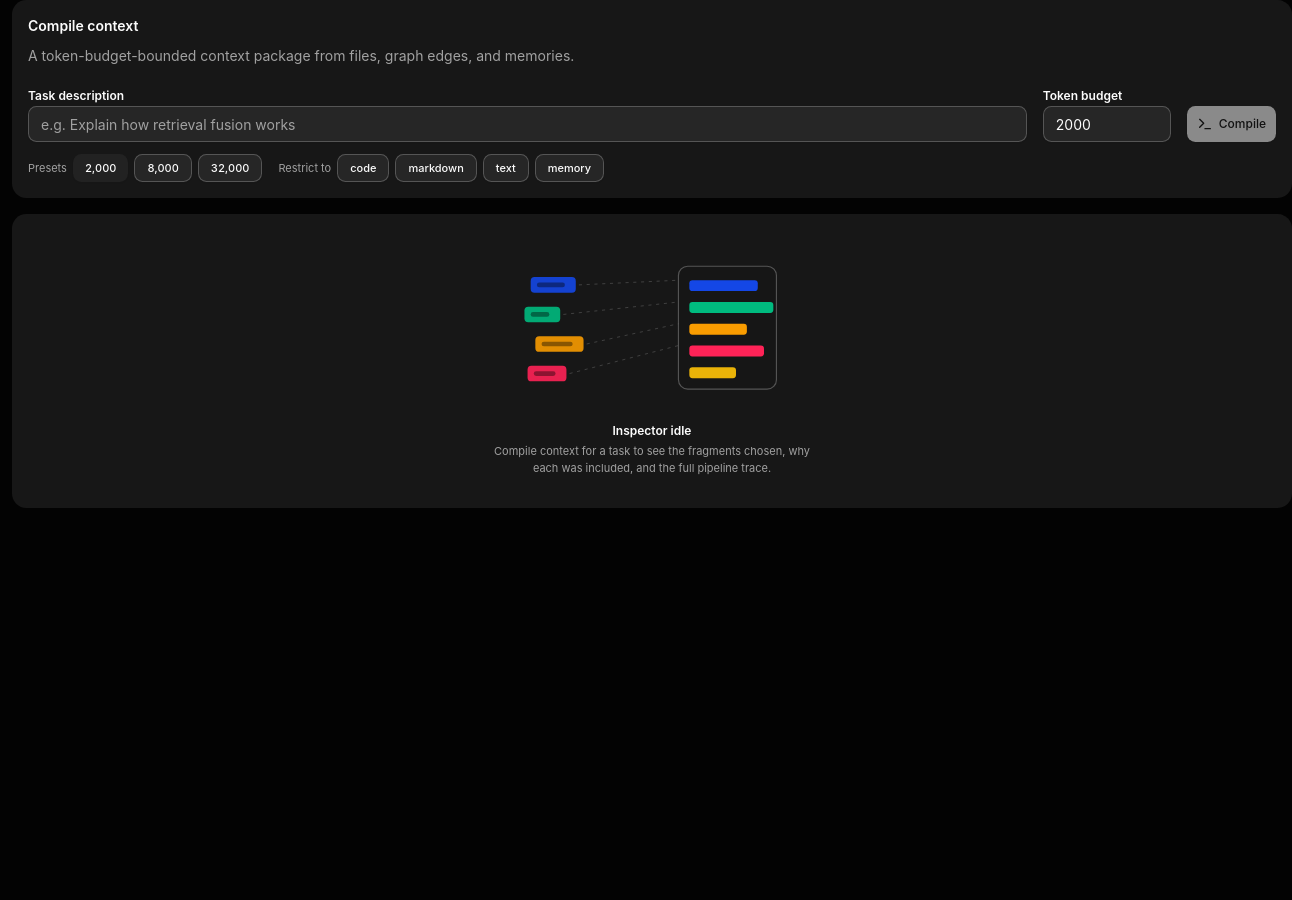
InspectorView › compiles and renders the package, provenance, and trace
The width and height of the screenshot is (1292, 900).
Type "explain fusion" into the field labelled "Task description". click: x=527, y=124
box: [28,106,1027,142]
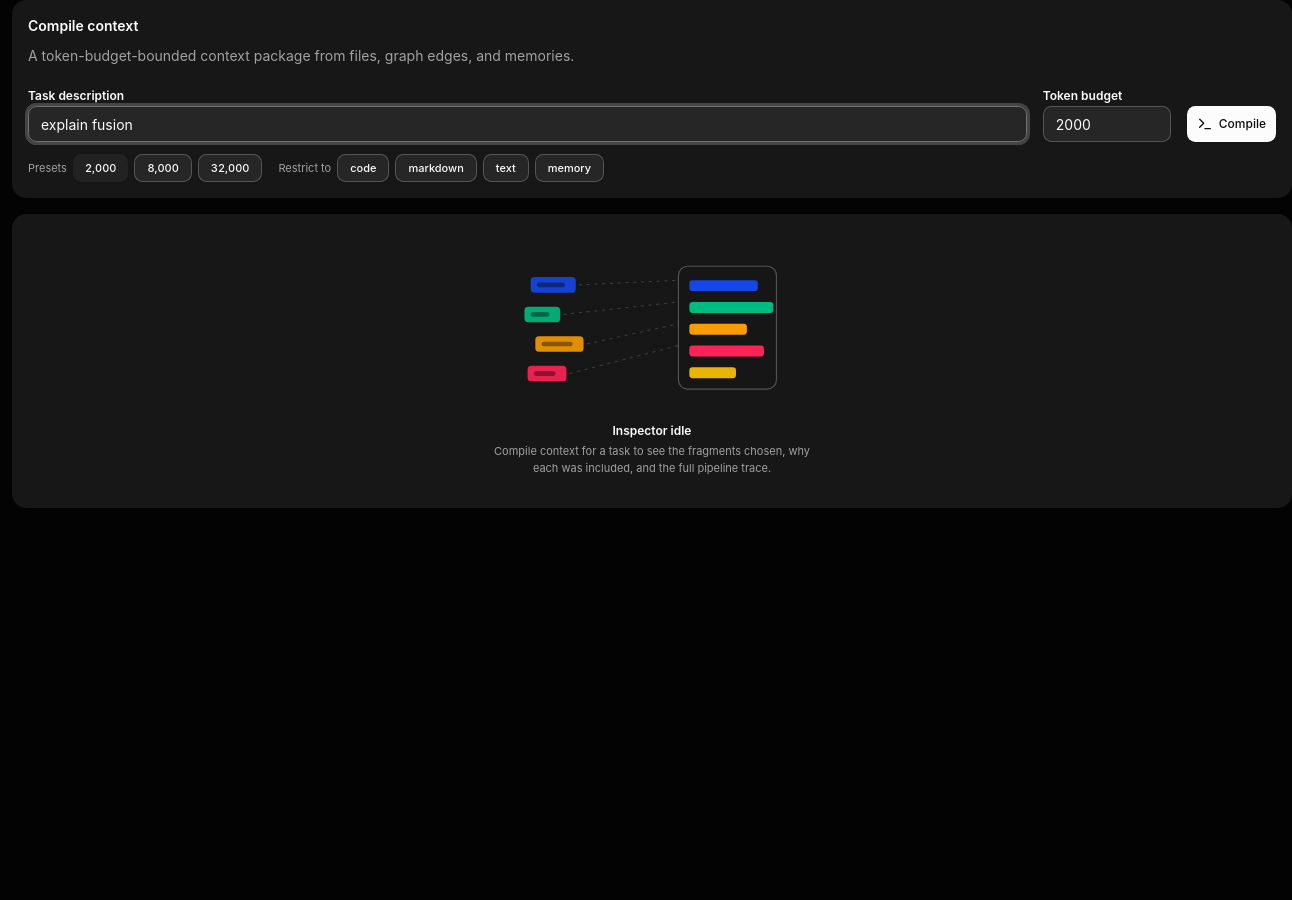
Click the button "Compile". click: x=1231, y=124
box: [1187,106,1276,142]
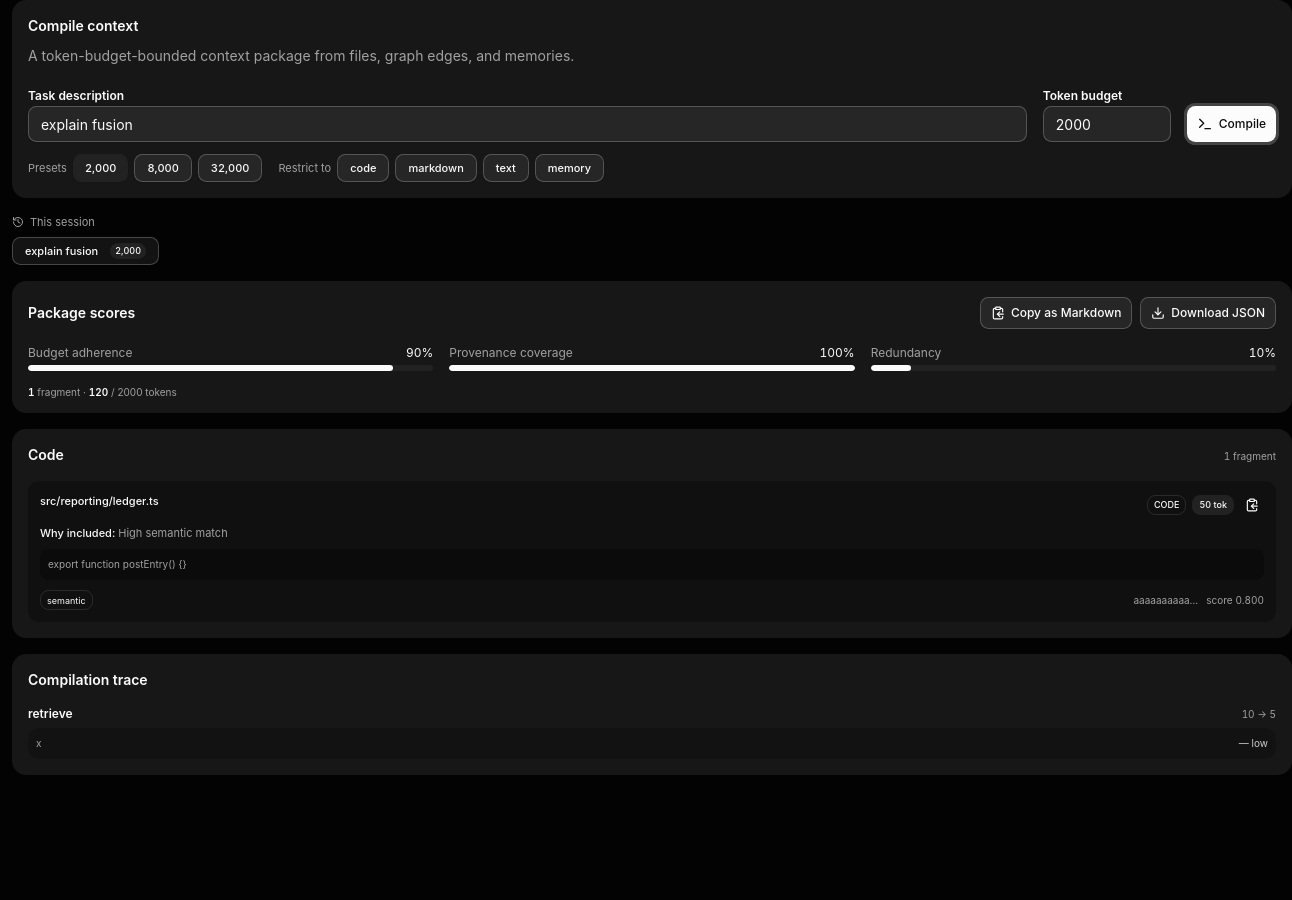
Expected: the text "Package scores" is shown, [28,303,135,323]
Expected: the text "Compilation trace" is shown, [28,671,148,688]
Expected: the text "Why included: High semantic match" is shown, [40,526,228,540]
